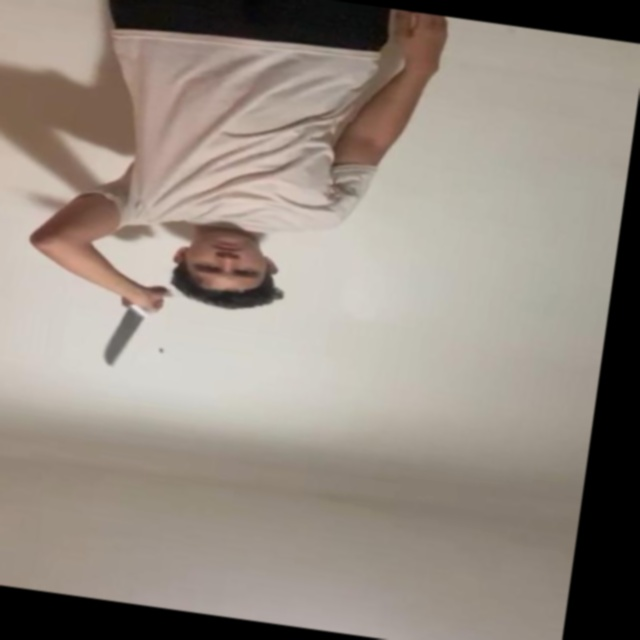Sharp-Object: (99, 311, 142, 372)
